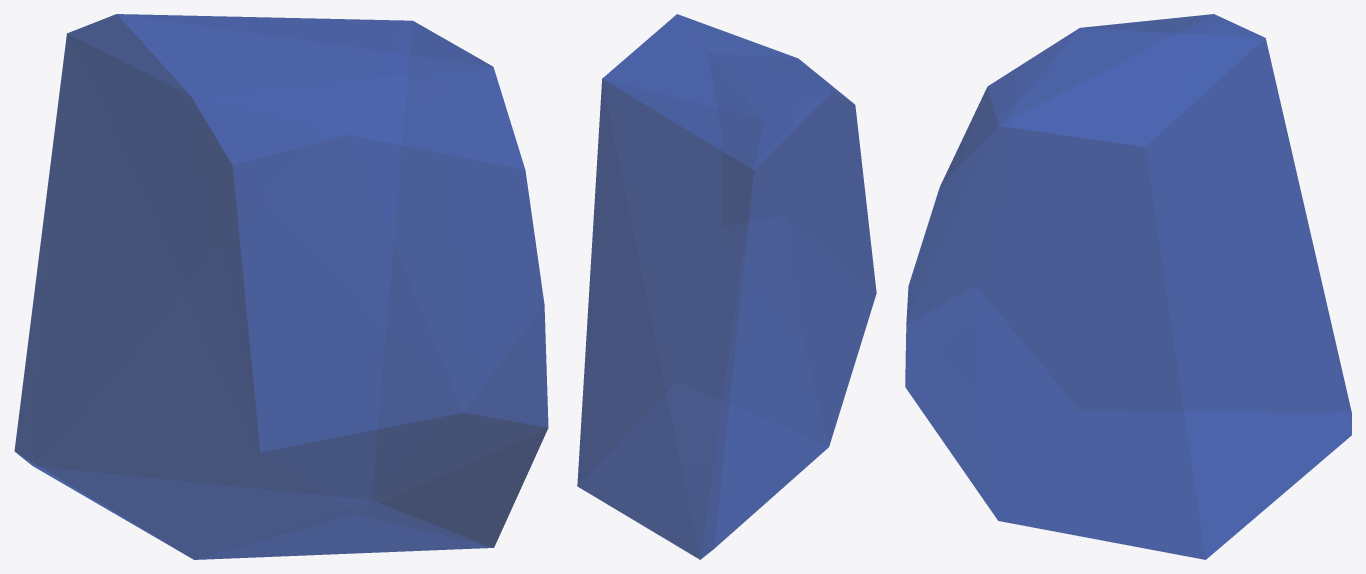
3 views of the same model, side by side, from view 1: azimuth 30°, elevation 25°; view 2: azimuth 150°, elevation 25°; view 3: azimuth 270°, elevation 25° (orthographic). The views are drawn at different scales.
Parts seen in each view (by area): view 1: Shape_IndexedFaceSet.019_Shape_IndexedFaceSet.16789; view 2: Shape_IndexedFaceSet.019_Shape_IndexedFaceSet.16789; view 3: Shape_IndexedFaceSet.019_Shape_IndexedFaceSet.16789.
Part boxes in pixels (box(x1,y1,x2,y2)): Shape_IndexedFaceSet.019_Shape_IndexedFaceSet.16789: box(14, 14, 548, 559); Shape_IndexedFaceSet.019_Shape_IndexedFaceSet.16789: box(577, 14, 876, 559); Shape_IndexedFaceSet.019_Shape_IndexedFaceSet.16789: box(905, 14, 1351, 559).
Size of the model in its own units: 0.1125 by 0.2142 by 0.1945.
